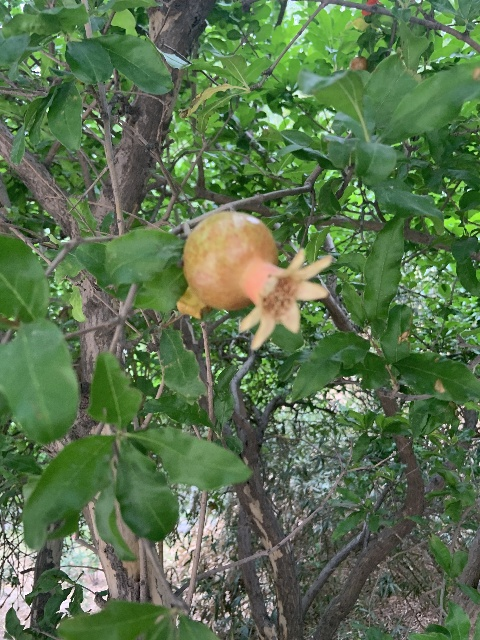early-fruit: (179, 210, 333, 352)
